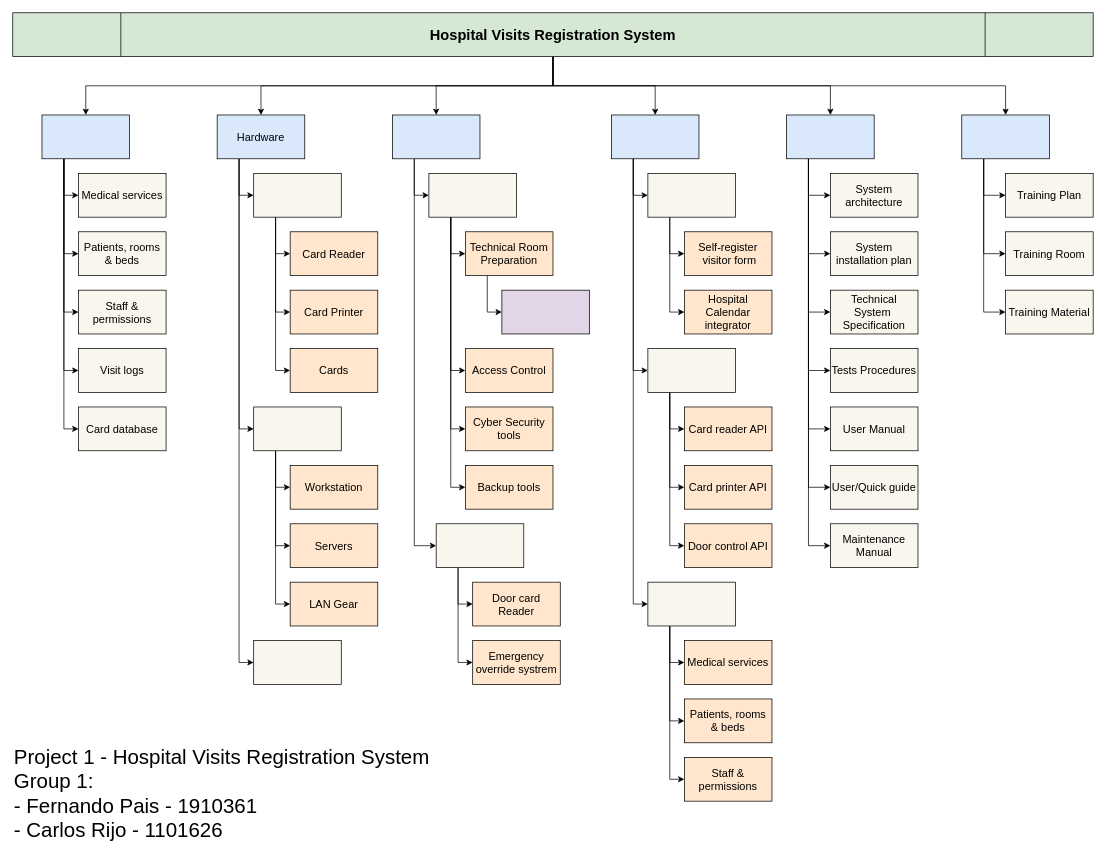
The diagram is 1106 pixels wide and 864 high, and some of its shapes have lost their labels. Each missing label, with the centre of its shape:
Card Software: (691,370)
Card System: (297,195)
Databases: (85,136)
Datacenter: (472,195)
Documents: (830,136)
Facilities: (436,136)
Hardware installation: (545,311)
Hospital API: (691,603)
IT Structure: (297,428)
Main lobby & Visitor halls: (479,545)
Network & Power Cabling: (297,662)
Software: (655,136)
Training: (1005,136)
Visits API: (691,195)
